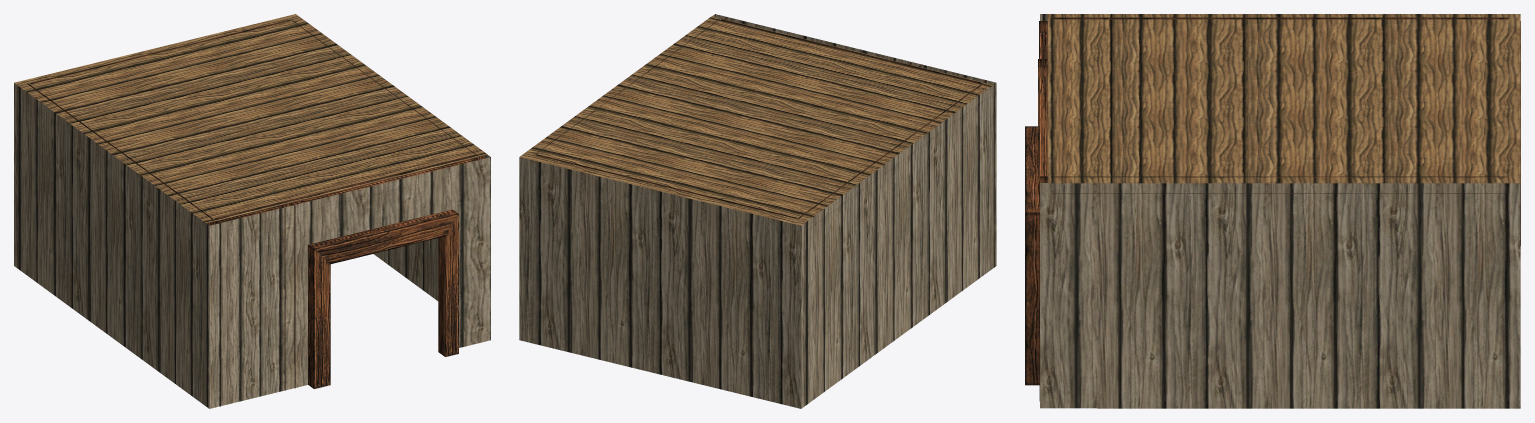
Rendered from LAKETOWN_WAREHOUSE3_PS_WH3_WEAPONROOM__GX.fbx.
The picture shows the model from 3 angles, left to right: view 1: azimuth 30°, elevation 25°; view 2: azimuth 150°, elevation 25°; view 3: azimuth 270°, elevation 25°; orthographic projection. The views are drawn at different scales.
Parts seen in each view (by area): view 1: LAKETOWN_WAREHOUSE3_PS_WH3_WEAPONROOM__GX; view 2: LAKETOWN_WAREHOUSE3_PS_WH3_WEAPONROOM__GX; view 3: LAKETOWN_WAREHOUSE3_PS_WH3_WEAPONROOM__GX.
Boxes of the visible parts, left/top/right/bottom form: LAKETOWN_WAREHOUSE3_PS_WH3_WEAPONROOM__GX: left=14, top=14, right=490, bottom=408; LAKETOWN_WAREHOUSE3_PS_WH3_WEAPONROOM__GX: left=519, top=14, right=996, bottom=408; LAKETOWN_WAREHOUSE3_PS_WH3_WEAPONROOM__GX: left=1025, top=14, right=1520, bottom=408.
Bounding box in the file's own units: 67110 × 41955 × 83001.
4 materials, 4 textured.
